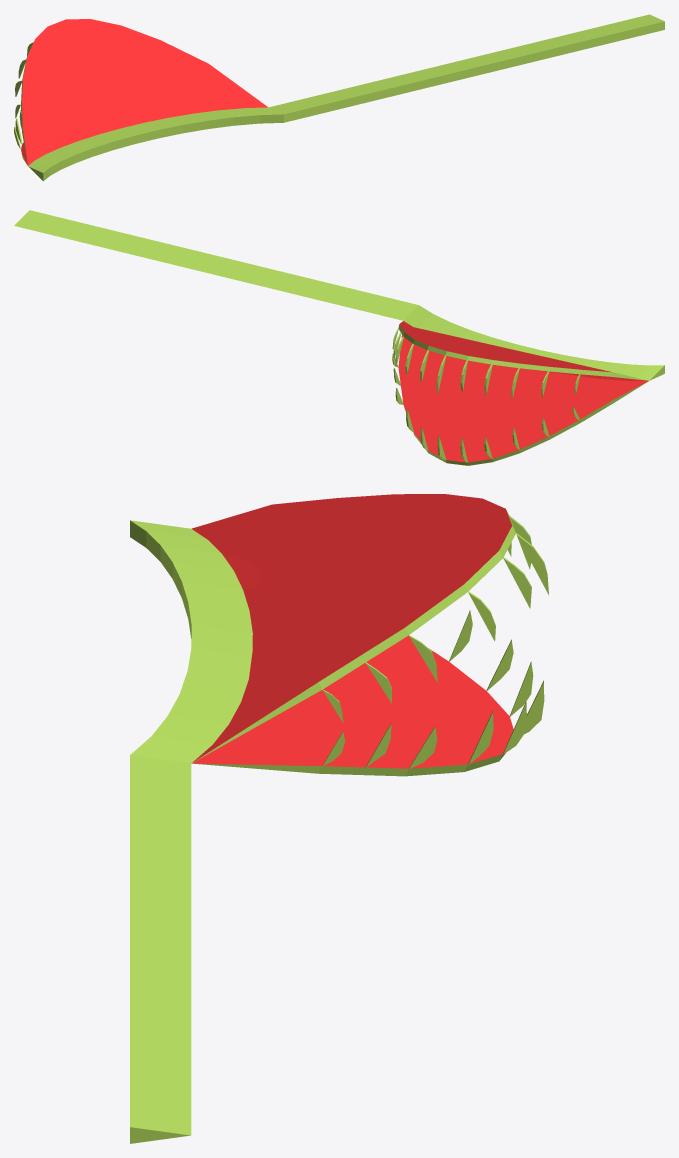
File: Venus Fly Trap_Ryan.fbx
3 views of the same model, one above another, from view 1: azimuth 30°, elevation 25°; view 2: azimuth 150°, elevation 25°; view 3: azimuth 270°, elevation 25° (orthographic). The views are drawn at different scales.
Parts seen in each view (by area): view 1: FlyTrap; view 2: FlyTrap; view 3: FlyTrap.
Part boxes in pixels (bbox=[...]): FlyTrap: bbox=[14, 14, 664, 181]; FlyTrap: bbox=[14, 210, 664, 465]; FlyTrap: bbox=[130, 494, 548, 1143].
Bounding box in the file's own units: 772 × 130 × 225.
